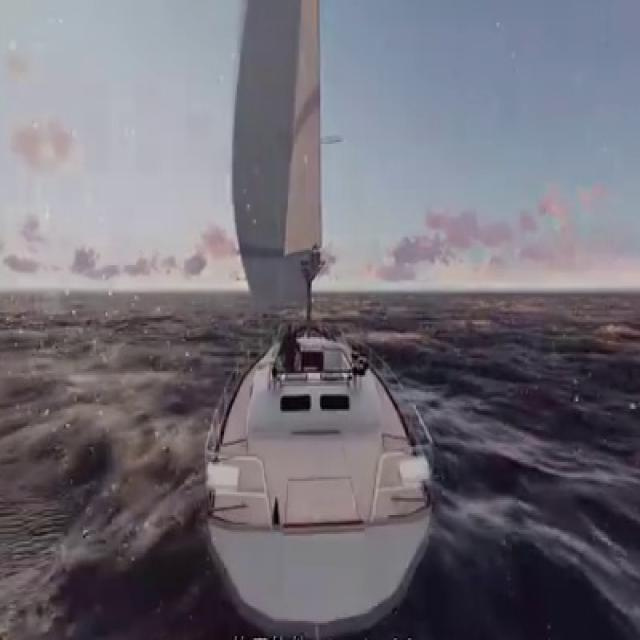sailboat: (200, 0, 441, 632)
